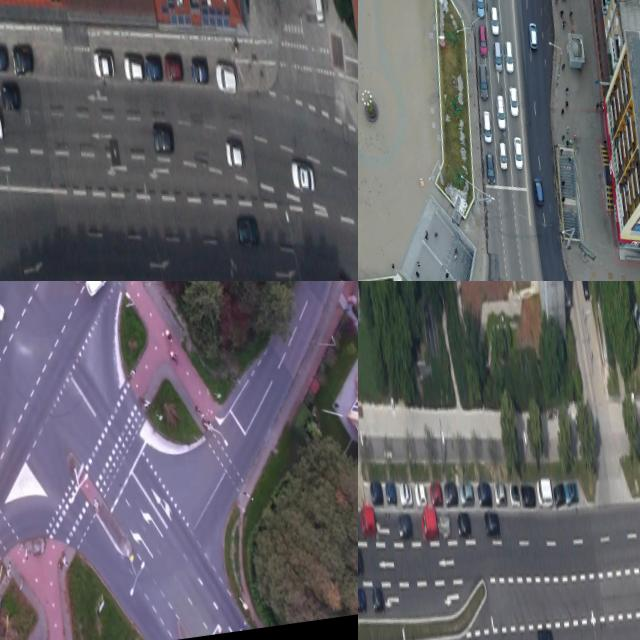UAI: (289, 157, 317, 197), (235, 212, 260, 249), (214, 61, 238, 96), (151, 121, 175, 154), (12, 44, 35, 75), (93, 51, 116, 80), (189, 55, 210, 86), (225, 140, 246, 171), (493, 93, 510, 131), (0, 81, 22, 110), (419, 507, 438, 540), (512, 134, 528, 173), (502, 39, 518, 78), (123, 54, 145, 82), (359, 504, 377, 538), (476, 62, 492, 100), (164, 52, 184, 81), (144, 54, 164, 82), (480, 109, 496, 144), (483, 150, 498, 187), (526, 21, 542, 55), (476, 22, 491, 58), (535, 477, 553, 507), (483, 510, 501, 539), (82, 281, 112, 298), (397, 513, 414, 542), (476, 480, 493, 509), (508, 85, 522, 119), (488, 6, 503, 37), (631, 298, 640, 348), (532, 175, 546, 207), (496, 142, 510, 174), (456, 511, 472, 538), (492, 41, 505, 74), (429, 479, 444, 507), (520, 482, 536, 508), (459, 482, 475, 508), (371, 586, 386, 613), (398, 480, 413, 507), (414, 480, 428, 508), (384, 478, 398, 506), (370, 479, 384, 506), (564, 480, 579, 505), (444, 481, 459, 506), (309, 0, 325, 22), (439, 514, 452, 541), (494, 482, 508, 507), (553, 482, 566, 507), (508, 482, 520, 507), (0, 40, 9, 71), (473, 0, 487, 18), (536, 627, 555, 640), (358, 587, 367, 614), (578, 281, 590, 301), (0, 291, 6, 324), (358, 545, 364, 577)
